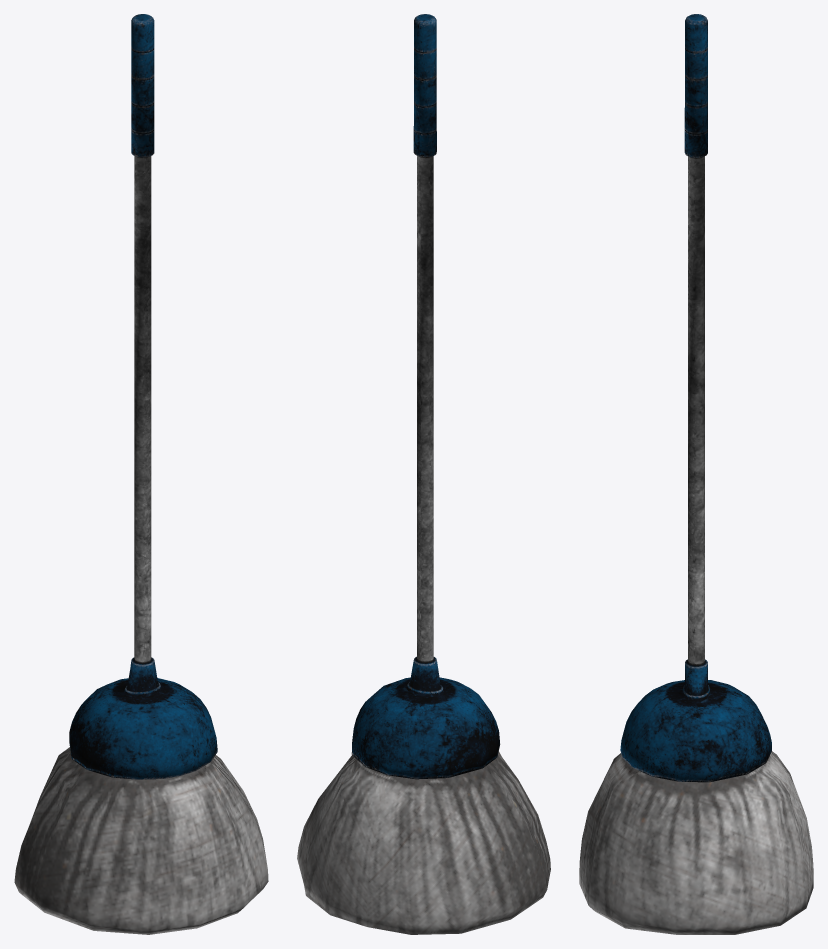
File: Mop3.fbx
3 renders of one model, left to right at view 1: azimuth 30°, elevation 25°; view 2: azimuth 150°, elevation 25°; view 3: azimuth 270°, elevation 25°, orthographic.
Parts seen in each view (by area): view 1: Retopo_Mop.002; view 2: Retopo_Mop.002; view 3: Retopo_Mop.002.
Boxes of the visible parts, x1,y1,x2,y2 form: Retopo_Mop.002: (14,14,268,934); Retopo_Mop.002: (297,14,550,934); Retopo_Mop.002: (579,14,813,934).
Bounding box in the file's own units: 49.98 × 185 × 45.04.
Materials: 1 (1 with a texture image).
